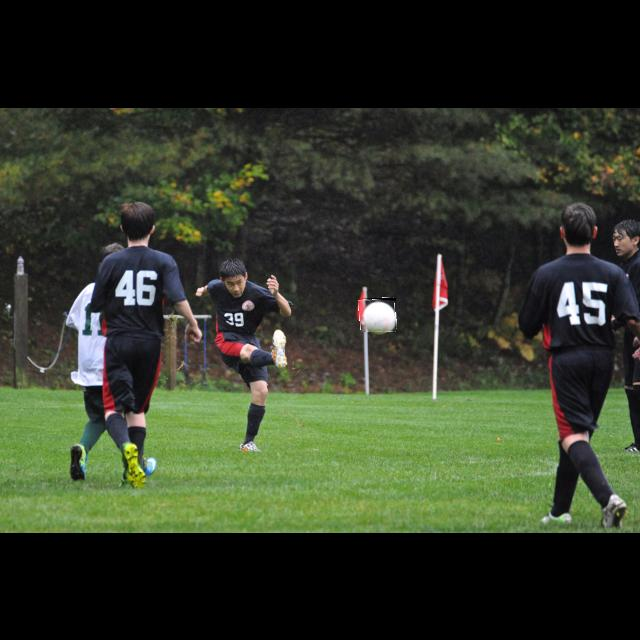Football: (360, 298, 396, 332)
